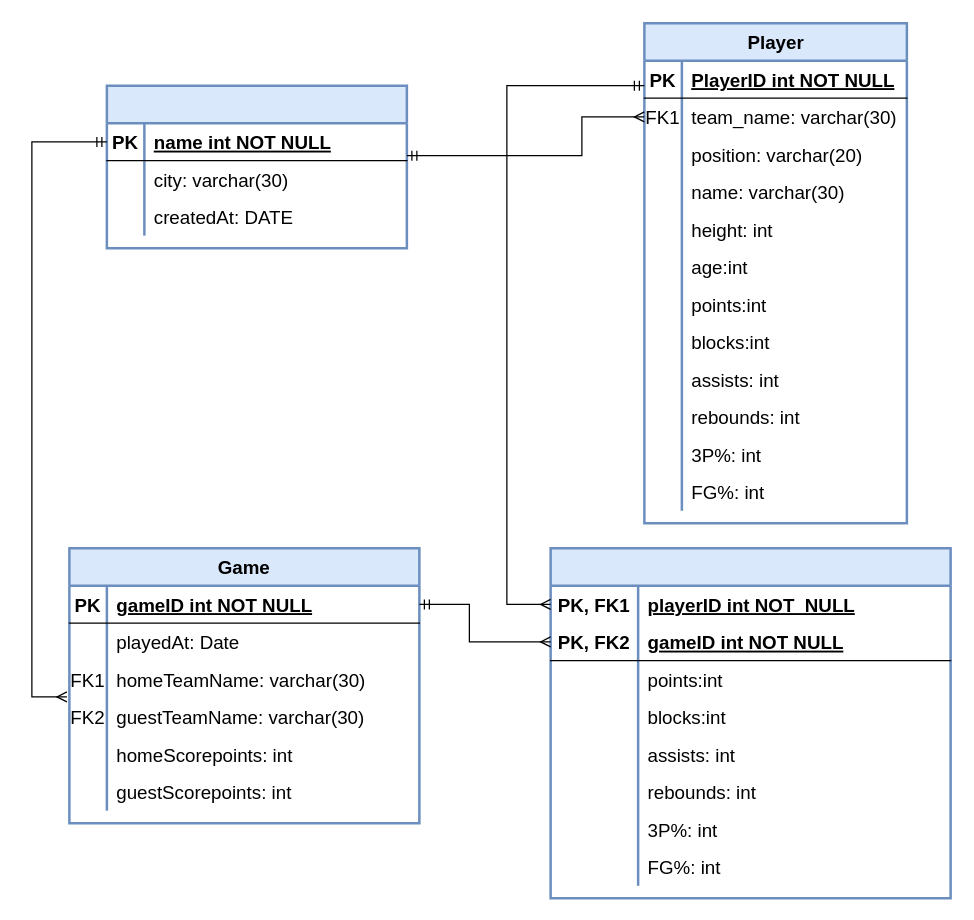
Some shapes in this 974 by 920 pixel diagram are drawn without their labels. The box of each missing label's shape, as (x1, y1, x2, y2) in pixels:
GameStats: (549, 546, 951, 899)
Team: (105, 84, 408, 249)
